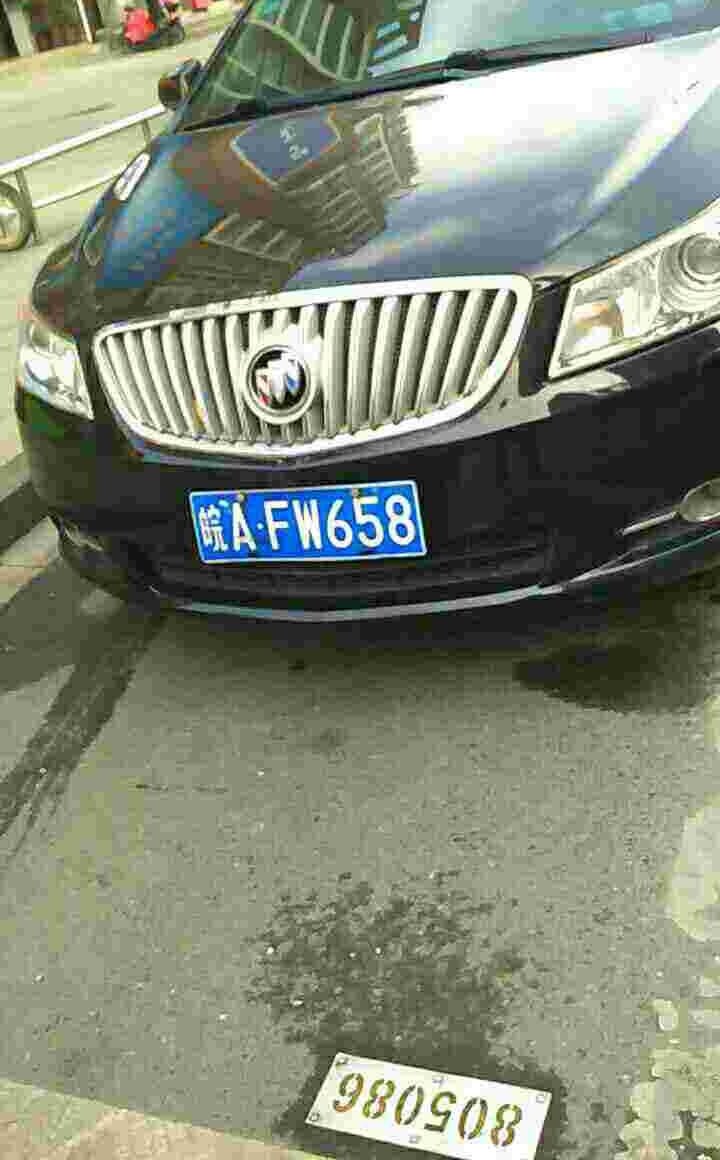license_plate: (193, 483, 425, 550)
